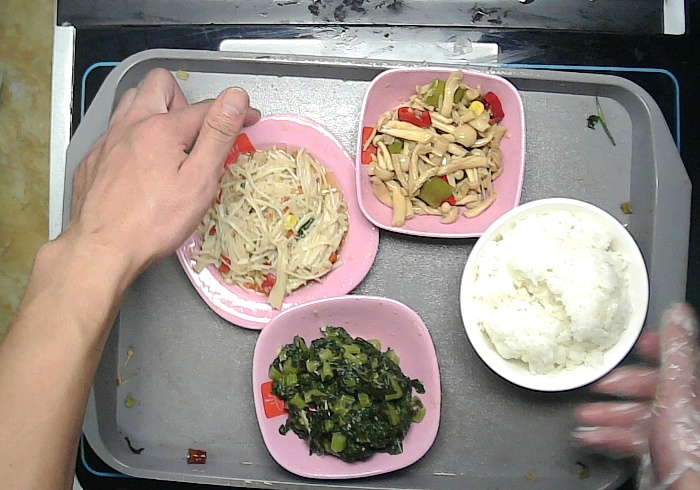SHKJ-Fan_Wan: (460, 196, 649, 391)
SHKJ-Fen_Se_Cai_Die: (252, 297, 441, 475)
SHKJ-Fen_Se_Si_Fang_Cai_Die: (170, 114, 383, 331)
SHKJ-Fen_Se_Xiao_Fang_Die: (355, 65, 526, 239)
